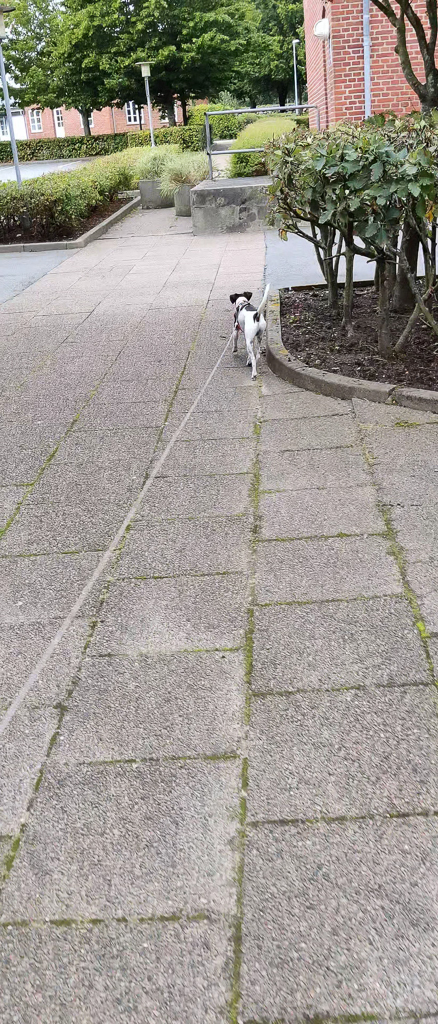Dog: (220, 276, 280, 385)
